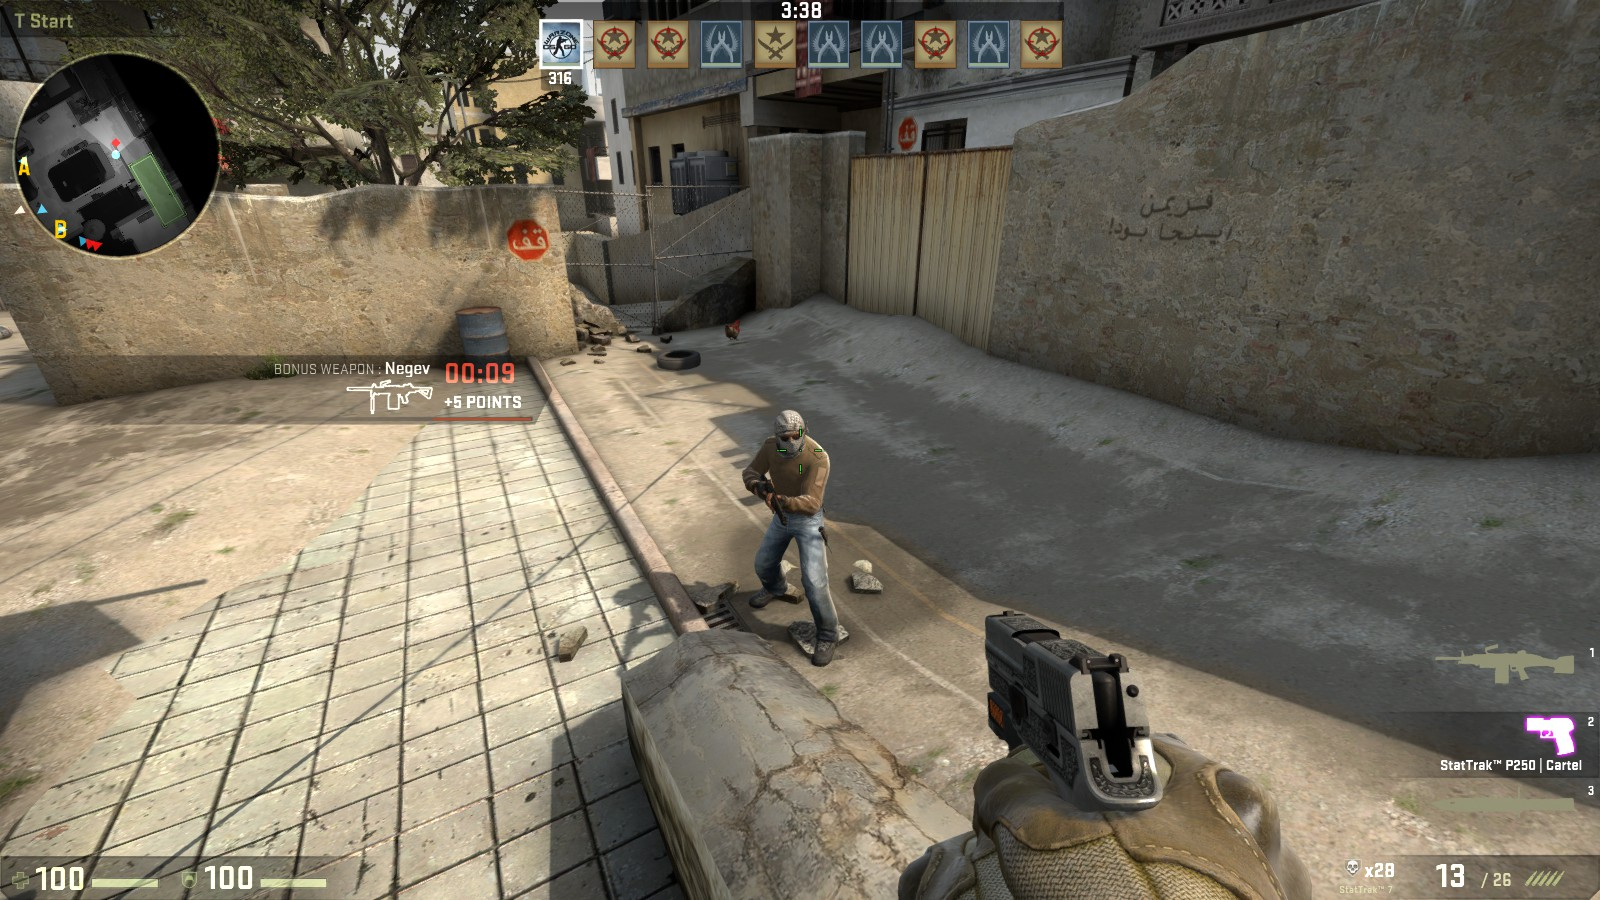t: (738, 409, 838, 651)
th: (769, 408, 812, 456)
